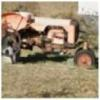tractors: (2, 10, 98, 72)
